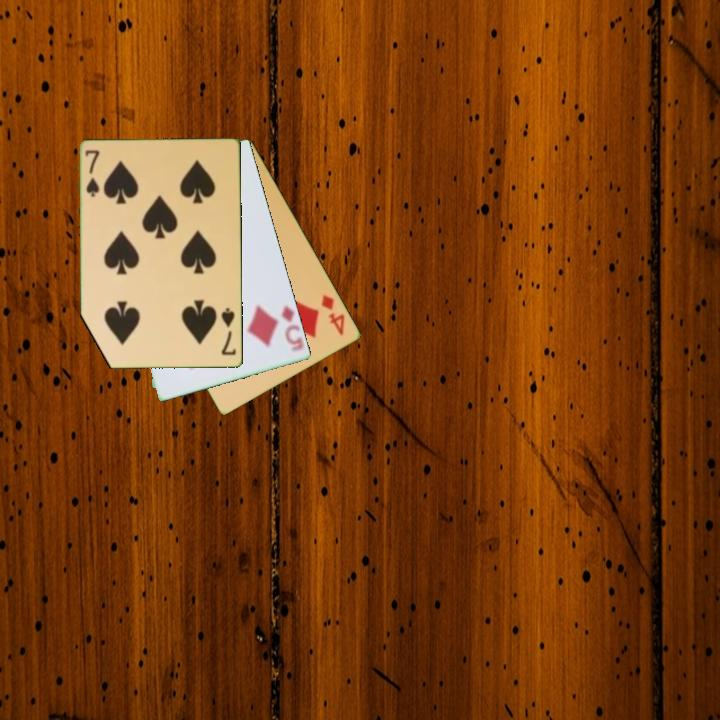4d: (318, 291, 348, 338)
5d: (278, 302, 307, 355)
7s: (218, 305, 239, 358), (82, 147, 102, 200)
